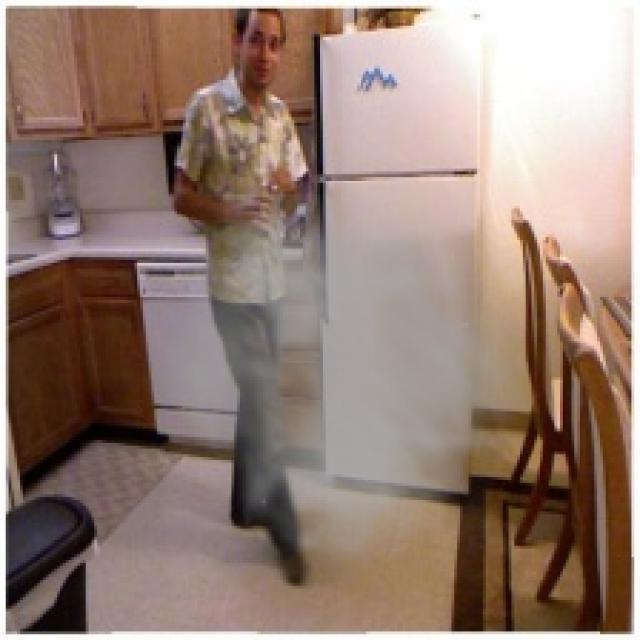Smoke: (131, 194, 546, 603)
